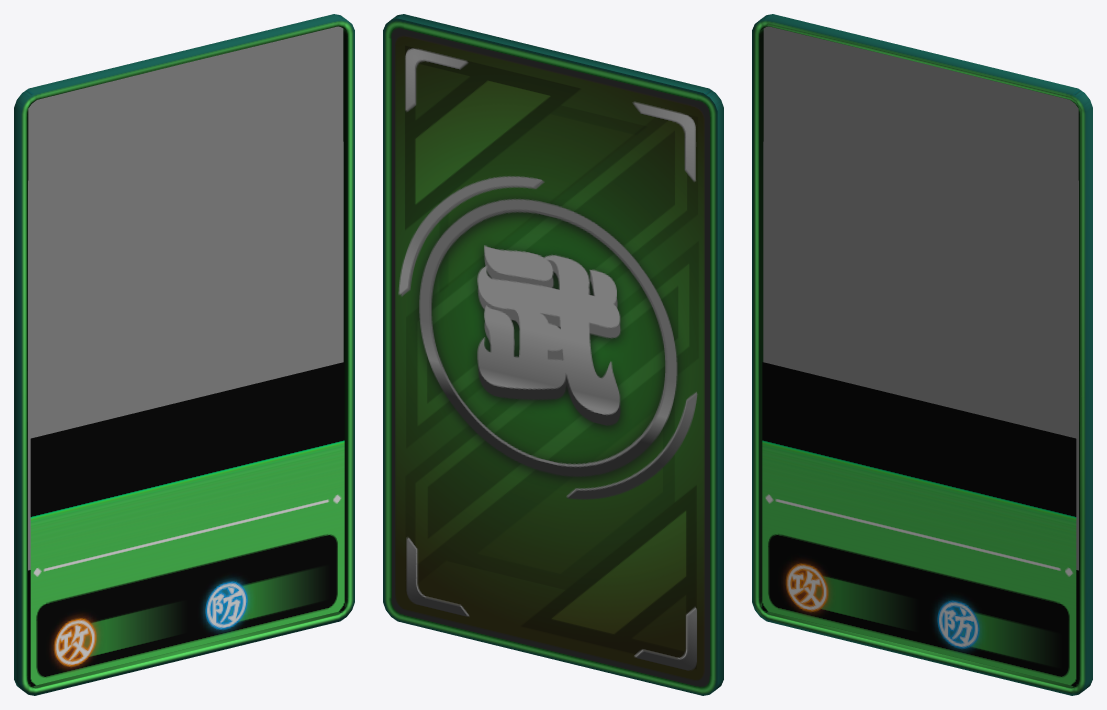
Rendered from The card.FBX.
3 renders of one model, left to right at view 1: azimuth 30°, elevation 25°; view 2: azimuth 150°, elevation 25°; view 3: azimuth 330°, elevation 25°, orthographic.
Parts seen in each view (by area): view 1: Object002, Plane03, Plane01; view 2: Plane02, Plane01; view 3: Object002, Plane03, Plane01.
Boxes of the visible parts, box(x1,y1,x2,y2) form: Object002: box(28, 26, 343, 570); Plane03: box(30, 362, 344, 686); Plane01: box(14, 14, 354, 695); Plane02: box(383, 18, 717, 695); Plane01: box(391, 14, 723, 691); Object002: box(763, 26, 1078, 570); Plane03: box(762, 362, 1076, 686); Plane01: box(752, 14, 1092, 695).
Bounding box in the file's own units: 3.05 × 5.25 × 0.0965.
